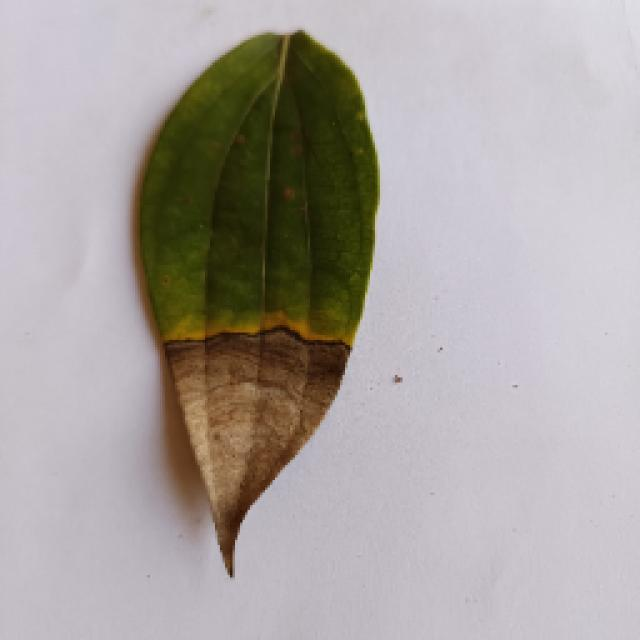footrot: (132, 30, 378, 578)
